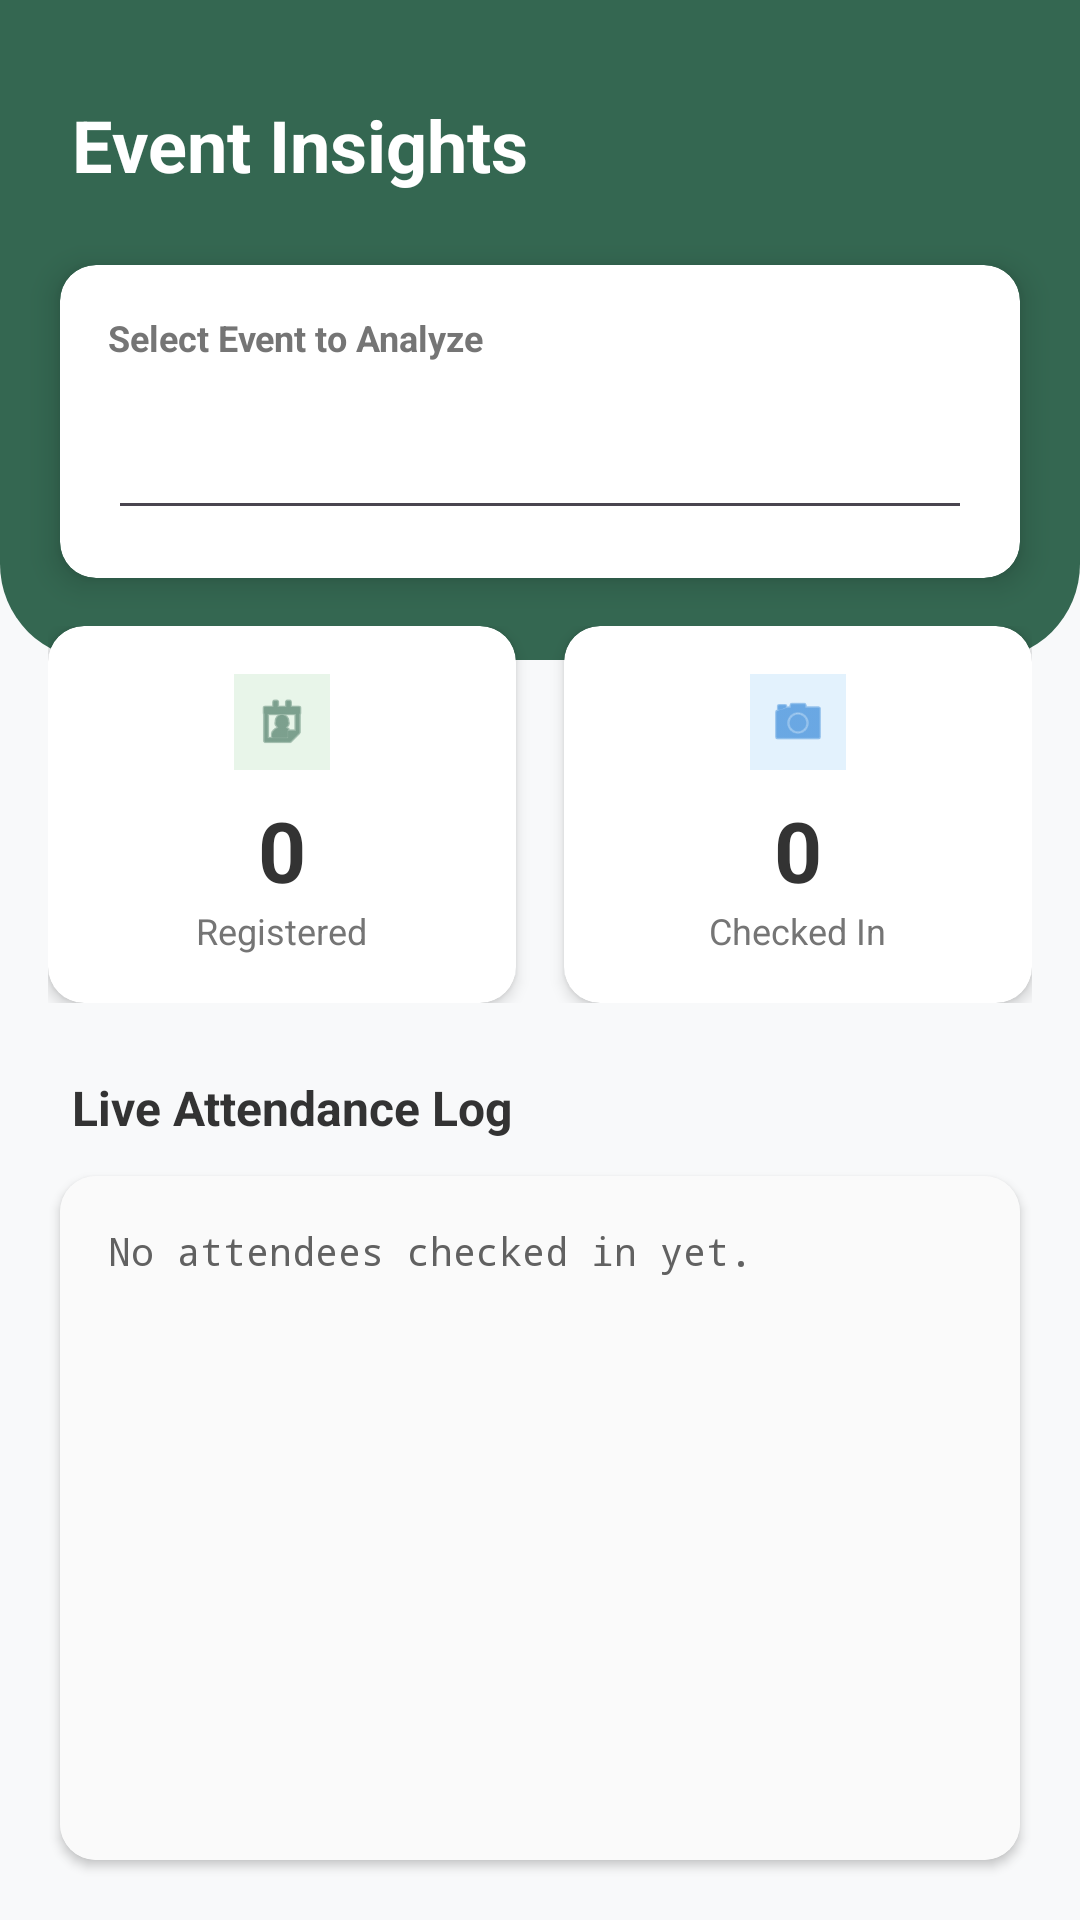

Named icons in this screenshot (1080*1920) and their bounding boxes, bbox=(x1, y1, x2, y2):
calendar: bbox=(262, 699, 302, 744)
camera: bbox=(750, 674, 846, 770)
